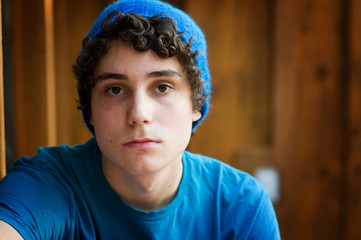teen: (81, 16, 203, 184)
